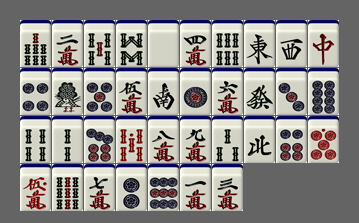0m: (20, 164, 51, 211)
0p: (308, 116, 339, 163)
0s: (116, 116, 147, 163)
1m: (180, 164, 211, 211)
1p: (180, 68, 211, 115)
1s: (52, 68, 83, 115)
1z: (244, 20, 275, 67)
2m: (52, 20, 83, 67)
2p: (116, 164, 147, 211)
2s: (52, 116, 83, 163)
2z: (148, 68, 179, 115)
3m: (212, 164, 243, 211)
3p: (276, 68, 307, 115)
3s: (212, 116, 243, 163)
3z: (276, 20, 307, 67)
4m: (180, 20, 211, 67)
4p: (20, 68, 51, 115)
4s: (20, 116, 51, 163)
4z: (244, 116, 275, 163)
5m: (116, 68, 147, 115)
5p: (84, 68, 115, 115)
5s: (84, 20, 115, 67)
5z: (148, 20, 179, 67)
6m: (212, 68, 243, 115)
6p: (276, 116, 307, 163)
6s: (212, 20, 243, 67)
6z: (244, 68, 275, 115)
7m: (84, 164, 115, 211)
7p: (84, 116, 115, 163)
7s: (20, 20, 51, 67)
7z: (308, 20, 339, 67)
8m: (148, 116, 179, 163)
8p: (308, 68, 339, 115)
8s: (116, 20, 147, 67)
9m: (180, 116, 211, 163)
9p: (148, 164, 179, 211)
9s: (52, 164, 83, 211)
